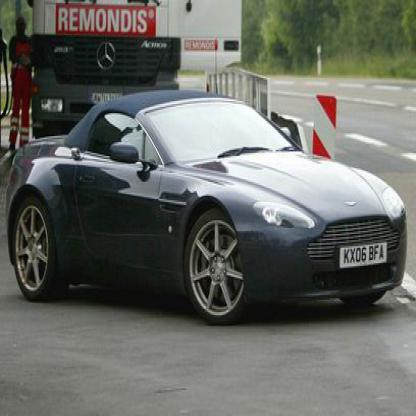Vehicle: (3, 92, 412, 329)
